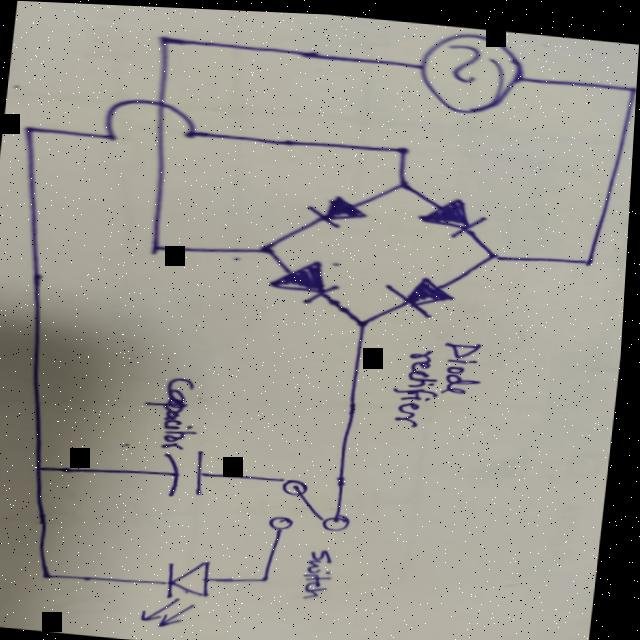capacitor: (164, 444, 217, 498)
crossover: (103, 93, 202, 148)
diode: (147, 554, 222, 629), (270, 253, 347, 304), (388, 270, 462, 316), (419, 190, 492, 236), (308, 190, 372, 227)
junction: (151, 30, 180, 48), (143, 238, 173, 255), (17, 121, 45, 139), (255, 239, 284, 255), (392, 175, 420, 189), (485, 244, 509, 258), (353, 313, 377, 327), (33, 460, 56, 474), (43, 569, 66, 583), (579, 249, 603, 262), (393, 140, 415, 154), (261, 571, 280, 582), (623, 77, 637, 89)
source: (412, 24, 531, 115)
switch: (271, 472, 361, 533)
text: (390, 331, 493, 430), (141, 370, 211, 450), (308, 546, 342, 596)
